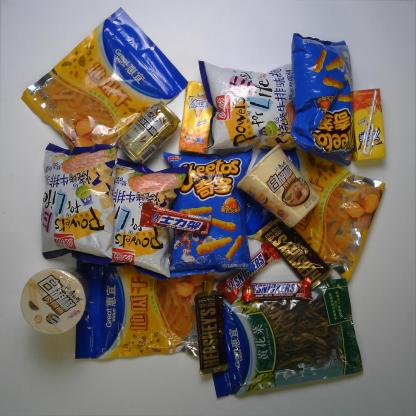Alcohol: (118, 102, 181, 164)
Chocolate: (256, 214, 335, 288), (217, 239, 279, 306), (194, 290, 232, 376), (138, 197, 212, 238), (241, 278, 314, 303)
Dried Food: (191, 278, 364, 402)
Dried Fruit: (20, 7, 187, 162), (246, 138, 385, 282), (72, 246, 219, 362)
Drink: (349, 87, 387, 162), (178, 79, 216, 154)
Instant Noodles: (237, 143, 320, 226), (20, 270, 85, 334)
Puffed Food: (84, 155, 190, 282), (159, 151, 253, 278), (199, 58, 308, 152), (38, 141, 118, 261), (289, 31, 355, 168)
